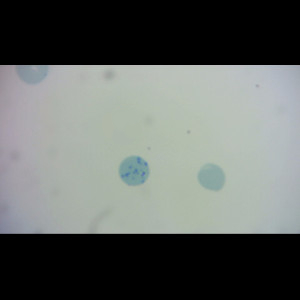aggregate reticulocyte: (118, 155, 151, 187)
erythrocyte: (197, 162, 227, 192)
